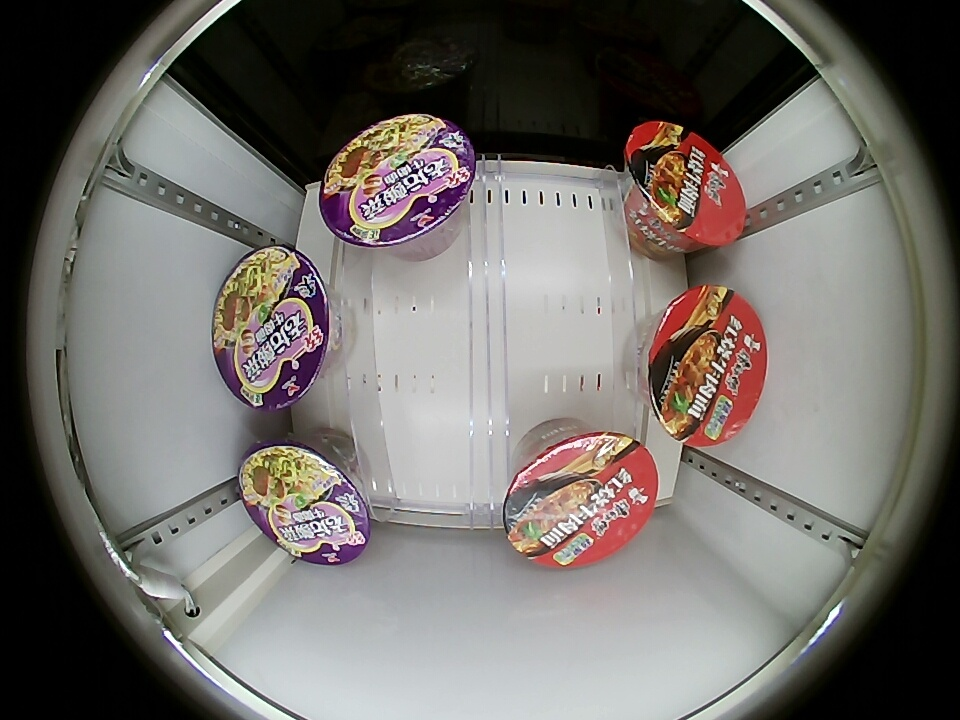hongshaoniurou: (502, 428, 659, 568), (643, 285, 767, 447), (624, 122, 745, 248)
laotansuancai: (318, 113, 478, 251), (212, 245, 338, 411), (238, 438, 371, 565)
